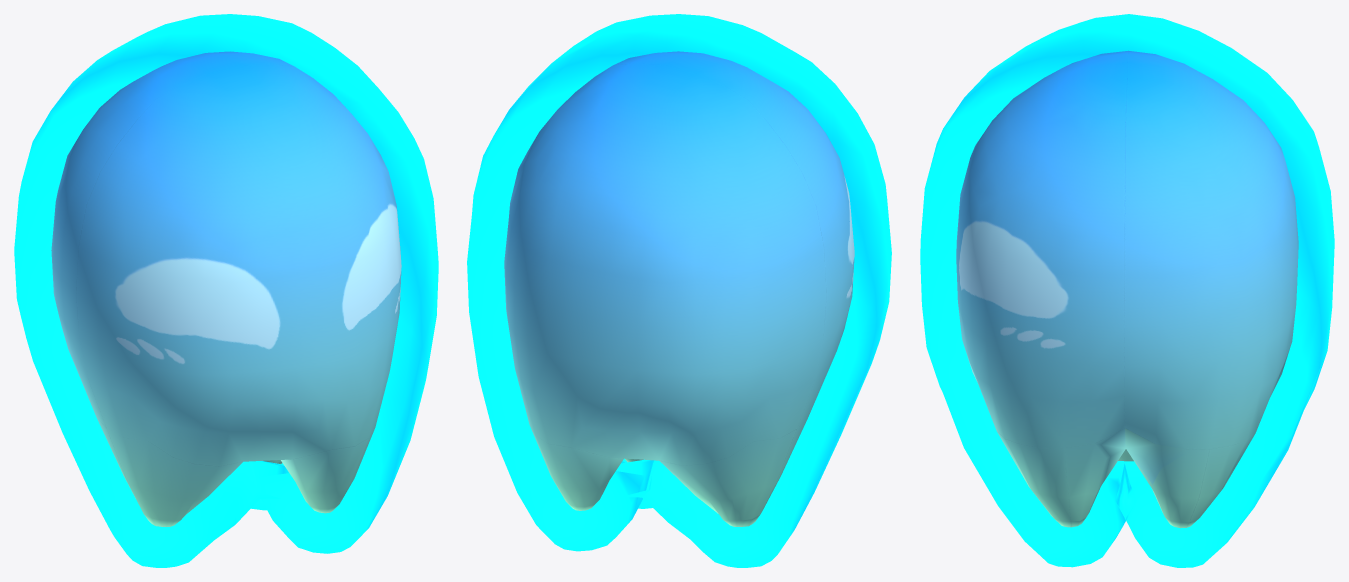
File: blueGhost.glb
3 views of the same model, side by side, from view 1: azimuth 30°, elevation 25°; view 2: azimuth 150°, elevation 25°; view 3: azimuth 270°, elevation 25° (orthographic). The views are drawn at different scales.
Visible parts, largest first — view 1: Cylinder.009; view 2: Cylinder.009; view 3: Cylinder.009.
Part boxes in pixels (x1,y1,x2,y2): Cylinder.009: (14,14,438,567); Cylinder.009: (467,14,891,567); Cylinder.009: (920,14,1334,567).
Size of the model in its own units: 4.76 by 6.29 by 4.84.
2 materials, 1 textured.
